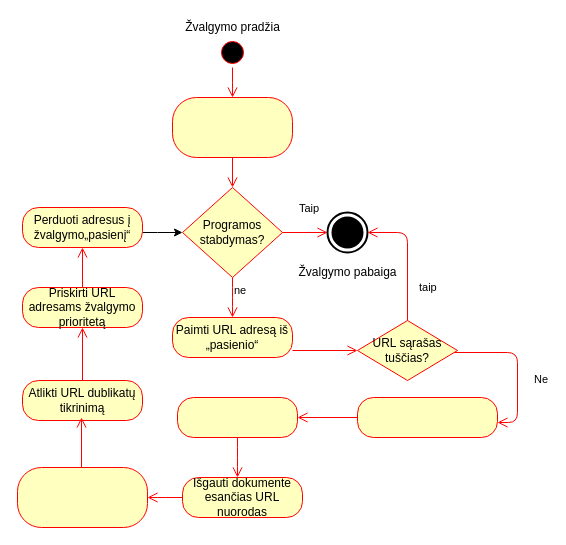
Image size: 566x545. Some labels were removed from this diagram. The shapes that lost their labels are listed below. From the top down, each one's centre as x and y in pixels, then its label:
At pixel 232 127: "Užkrauti pradines žvalgymo nuorodas į „pasienio“ komponentą".
At pixel 237 417: "Parsiųsti HTML dokumentą".
At pixel 427 417: "Kreiptis į DNS serverį nuorodos serverio IP adresui išaiškinti".
At pixel 82 497: "Atlikti URL adresų filtravimą pagal specializuotus kriterijus".
